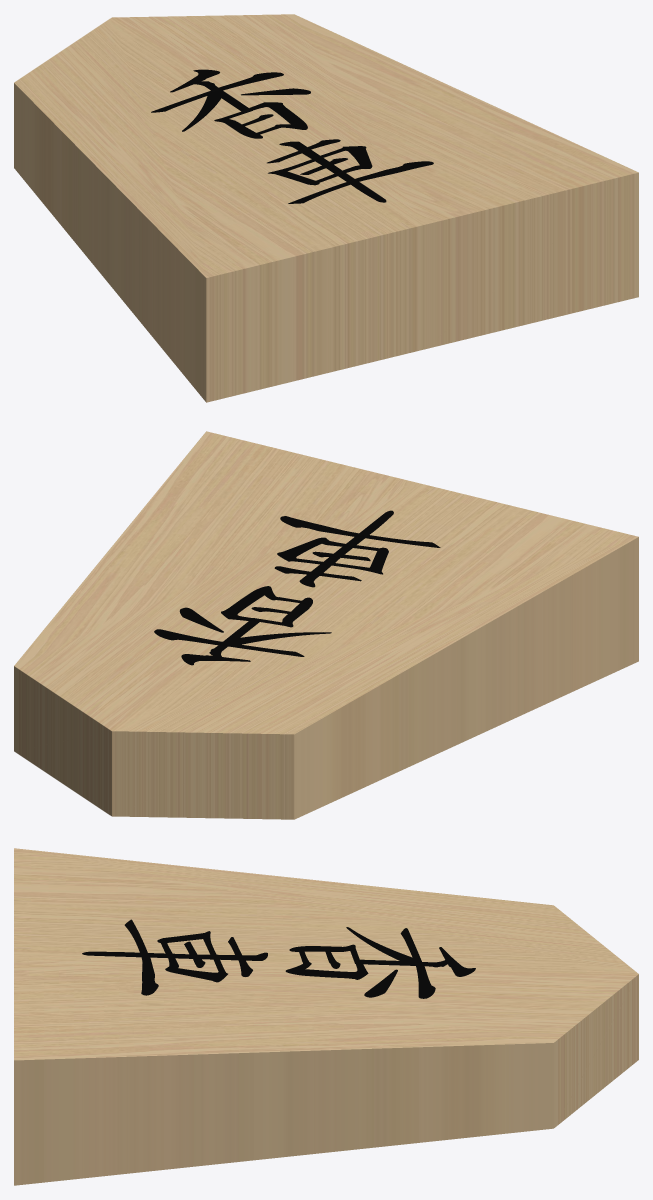
The model's file is kyosya.fbx.
The picture shows the model from 3 angles, top to bottom: view 1: azimuth 30°, elevation 25°; view 2: azimuth 150°, elevation 25°; view 3: azimuth 270°, elevation 25°; orthographic projection.
Visible parts, largest first — view 1: kyosya.001; view 2: kyosya.001; view 3: kyosya.001.
Boxes of the visible parts, <box> form: kyosya.001: <box>14,14,638,402</box>; kyosya.001: <box>14,431,638,819</box>; kyosya.001: <box>14,848,638,1185</box>.
Size of the model in its own units: 368 by 101 by 458.
